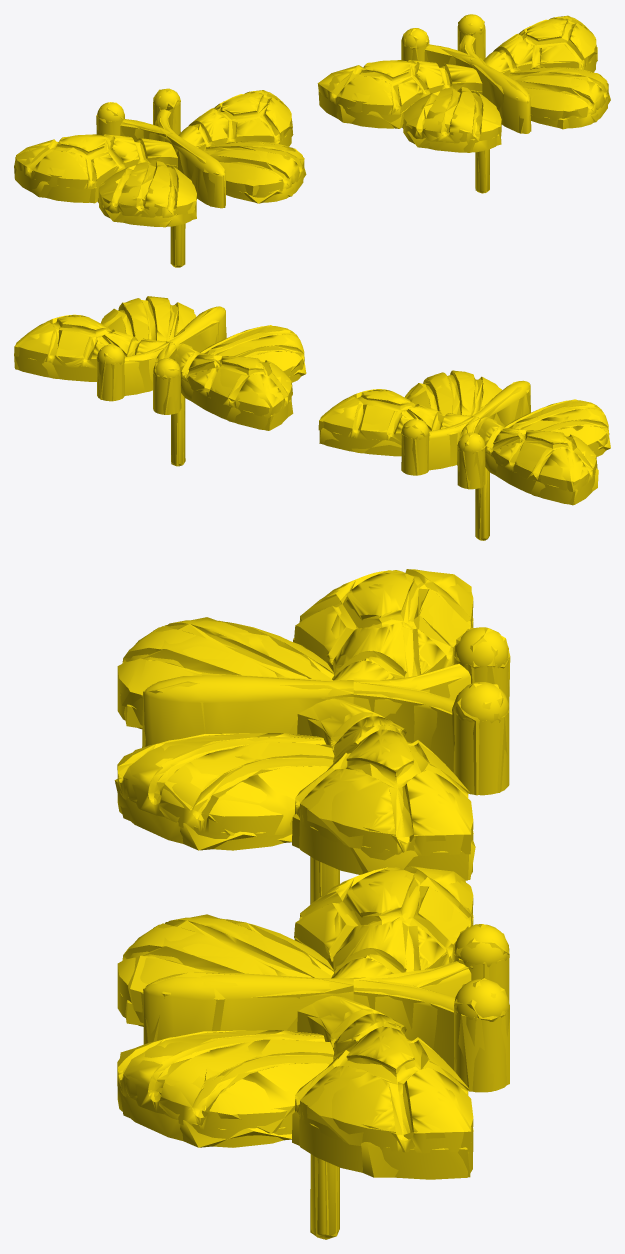
The model's file is GP-D000705672_hub.glb.
3 views of the same model, one above another, from view 1: azimuth 30°, elevation 25°; view 2: azimuth 150°, elevation 25°; view 3: azimuth 270°, elevation 25° (orthographic). The views are drawn at different scales.
Parts seen in each view (by area): view 1: highPolyMesh, lowPolyMesh; view 2: highPolyMesh, lowPolyMesh; view 3: highPolyMesh, lowPolyMesh.
Part boxes in pixels (<box>): highPolyMesh: <box>15,14,608,267</box>; lowPolyMesh: <box>14,15,610,267</box>; highPolyMesh: <box>15,296,608,540</box>; lowPolyMesh: <box>14,296,610,540</box>; highPolyMesh: <box>117,569,509,1239</box>; lowPolyMesh: <box>114,569,510,1239</box>.
Size of the model in its own units: 0.0358 by 0.00866 by 0.0109.
